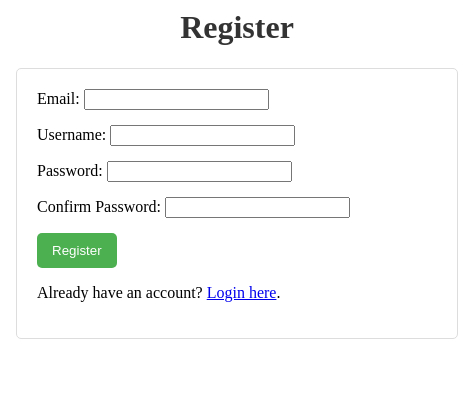
Scenario: User Register › Checks for invalid password
In the field with id "registerEmail": point(177, 100) x1=84 y1=89 x2=269 y2=110, type "sdfsd@fsd.com"
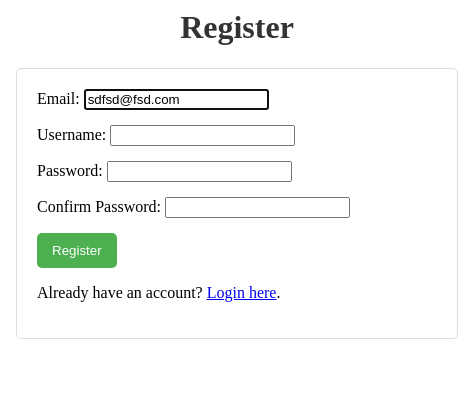
In the field with id "username": point(203, 136) x1=110 y1=125 x2=295 y2=146, type "dsfsdfsd"
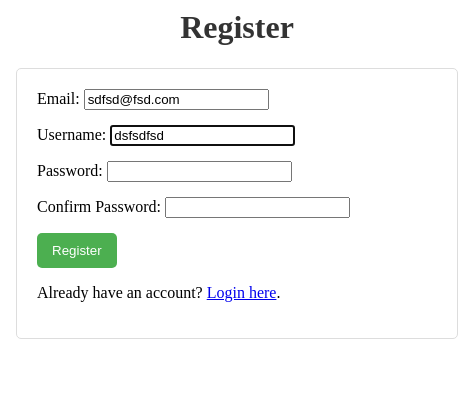
In the password field with id "registerPassword": point(200, 172) x1=107 y1=161 x2=292 y2=182, type "cokezero"
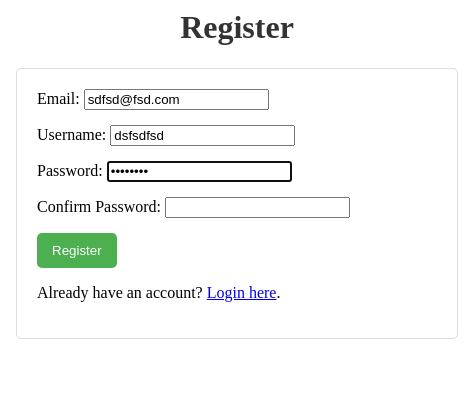
In the password field with id "confirmPassword": point(258, 208) x1=165 y1=197 x2=350 y2=218, type "dietdew"
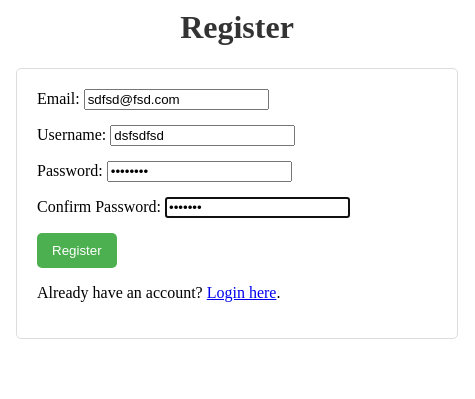
Click the button "Register": point(77, 251) x1=37 y1=233 x2=117 y2=268
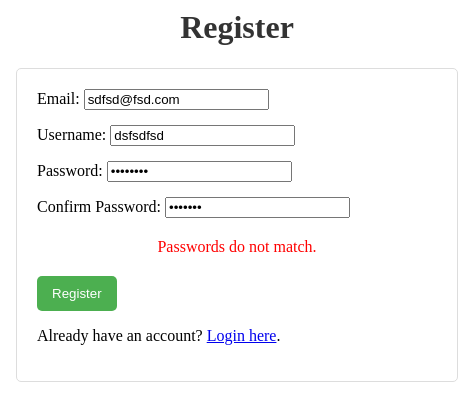
Expected: the text "Passwords do not match." is shown, x1=157 y1=238 x2=316 y2=255
